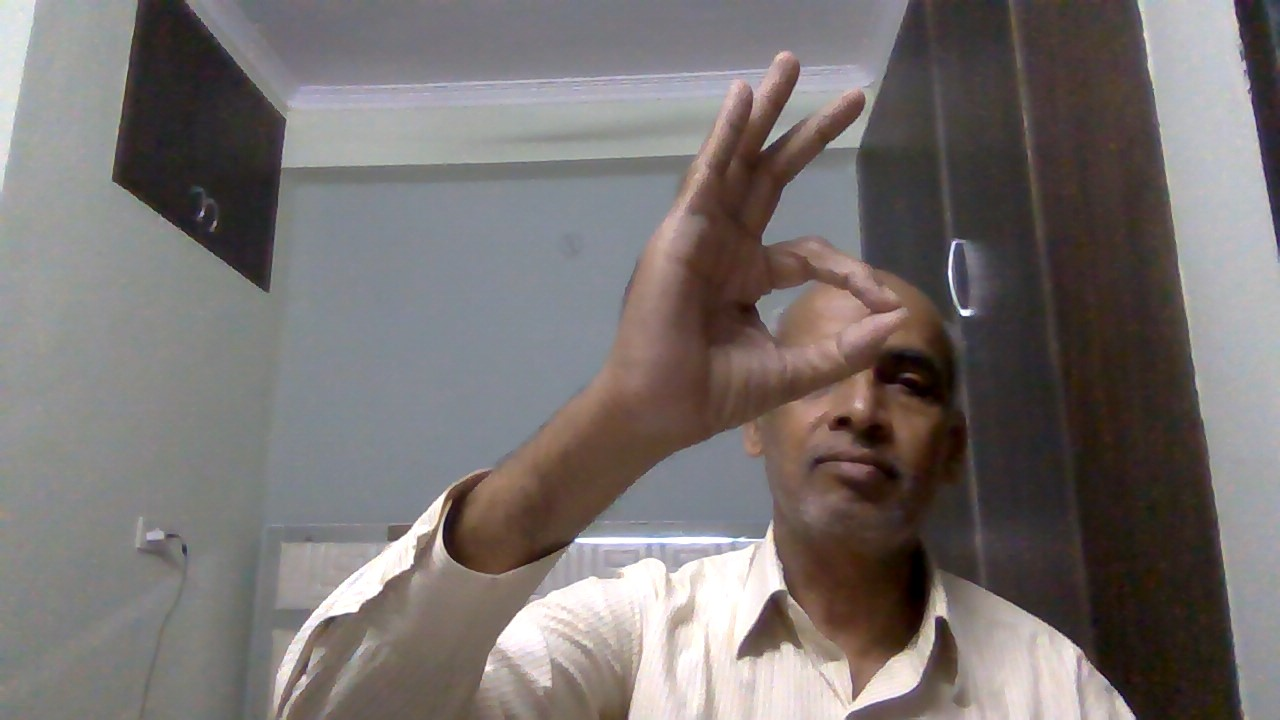Copy: (596, 41, 913, 476)
